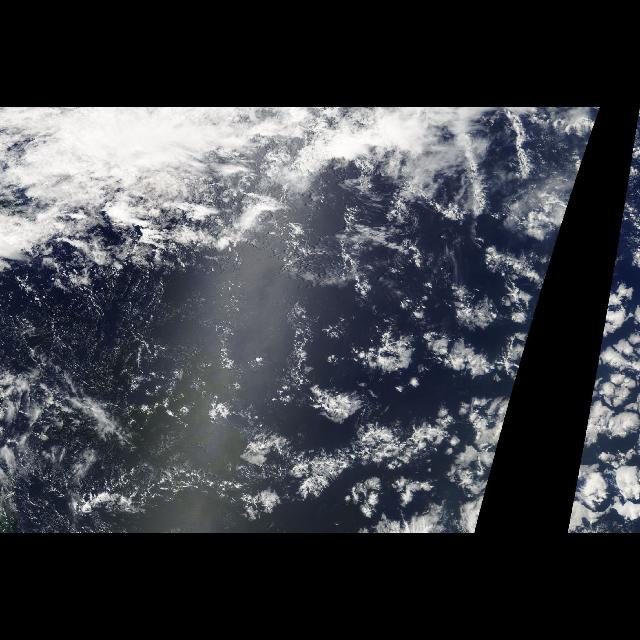Flower: (270, 268, 548, 534), (563, 268, 639, 534)
Sugar: (1, 258, 249, 450)
